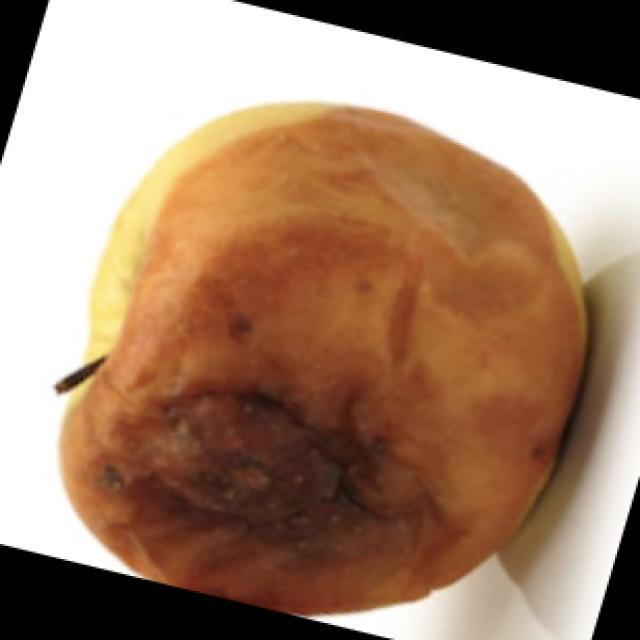Rotten: (76, 101, 576, 640)
